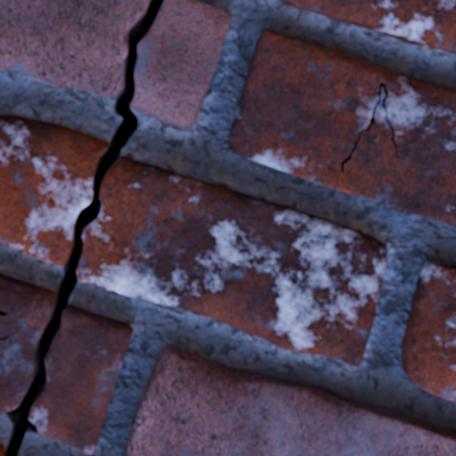brick: (229, 31, 455, 225), (125, 345, 455, 455), (402, 260, 455, 401)
broken_brick: (78, 155, 388, 367), (0, 114, 107, 266), (30, 303, 133, 455), (0, 0, 147, 97), (131, 0, 232, 129), (272, 0, 455, 55), (0, 272, 56, 416), (0, 442, 4, 455)
crack: (2, 0, 165, 455)
